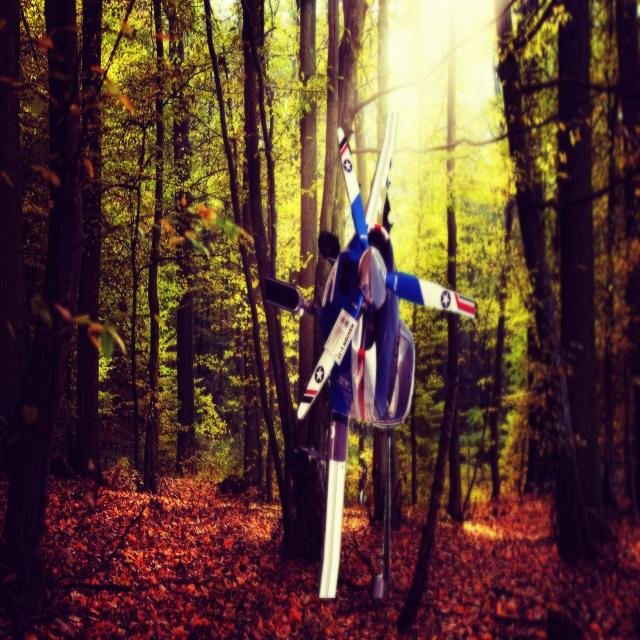airplane: (263, 109, 477, 601)
